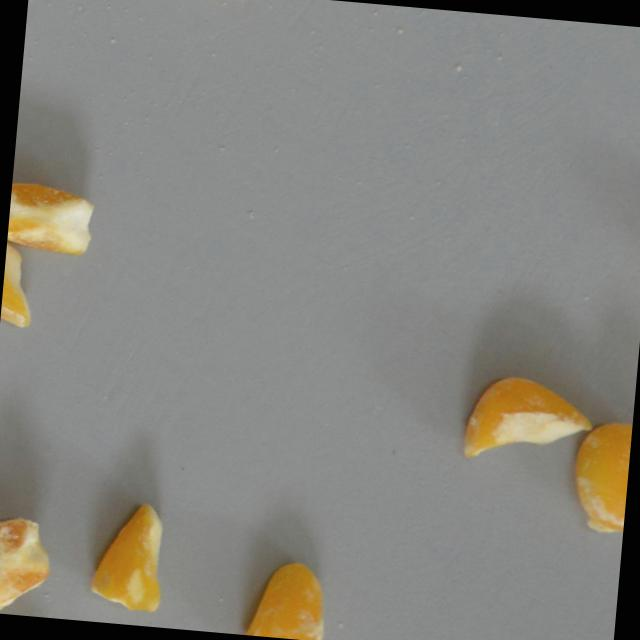pelicula: (459, 369, 594, 469), (86, 498, 169, 613), (568, 413, 633, 534), (242, 557, 330, 640), (5, 179, 95, 255), (0, 512, 55, 617), (0, 192, 42, 328)
